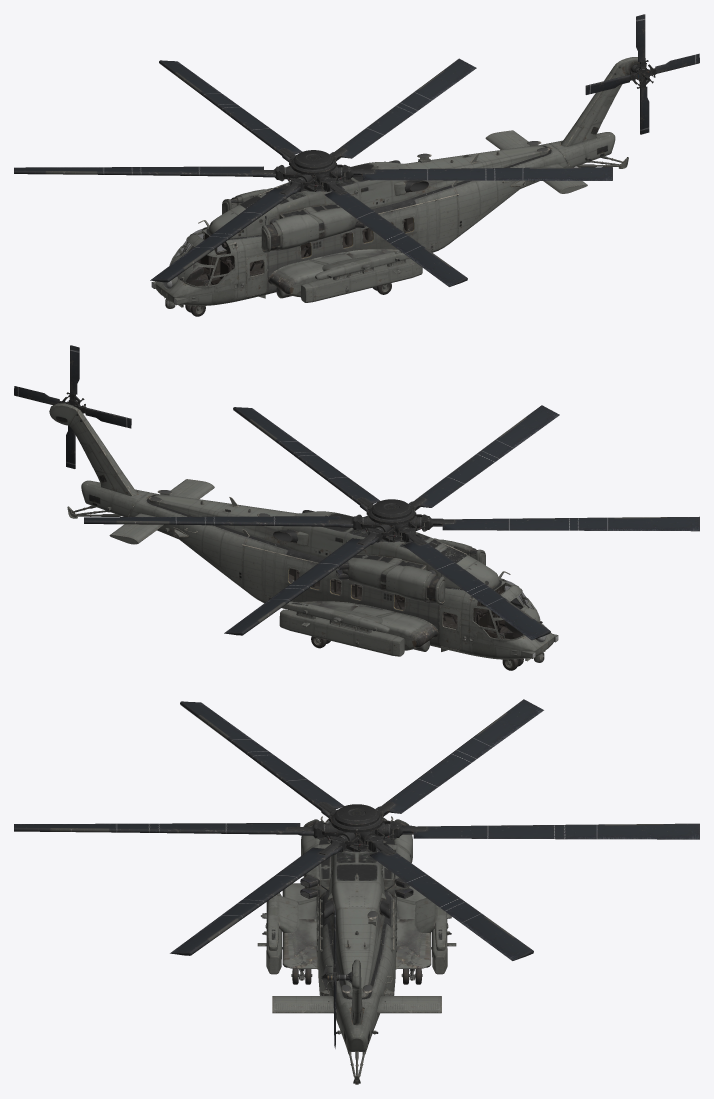
The picture shows the model from 3 angles, top to bottom: view 1: azimuth 30°, elevation 25°; view 2: azimuth 150°, elevation 25°; view 3: azimuth 270°, elevation 25°; orthographic projection. The views are drawn at different scales.
Parts seen in each view (by area): view 1: Object_8, Object_4, Object_3, Object_2, Object_5, Object_13, Object_9, Object_12, Object_7, Object_11; view 2: Object_8, Object_4, Object_3, Object_2, Object_5, Object_13, Object_9, Object_12, Object_7, Object_11; view 3: Object_8, Object_4, Object_2, Object_3, Object_12, Object_9, Object_13, Object_11, Object_5.
Part boxes in pixels (<box>): Object_8: <box>14,14,699,305</box>; Object_4: <box>222,188,422,302</box>; Object_3: <box>389,130,628,252</box>; Object_2: <box>208,145,548,238</box>; Object_5: <box>155,57,646,305</box>; Object_13: <box>185,197,421,316</box>; Object_9: <box>170,132,615,287</box>; Object_12: <box>252,60,656,194</box>; Object_7: <box>184,217,413,286</box>; Object_11: <box>161,141,591,307</box>; Object_8: <box>14,345,699,658</box>; Object_4: <box>279,538,477,656</box>; Object_3: <box>67,479,314,609</box>; Object_2: <box>149,494,499,588</box>; Object_5: <box>49,403,554,659</box>; Object_13: <box>280,547,523,670</box>; Object_9: <box>81,480,539,640</box>; Object_12: <box>59,392,454,544</box>; Object_7: <box>288,568,524,639</box>; Object_11: <box>106,490,548,661</box>; Object_8: <box>14,699,699,1048</box>; Object_4: <box>257,821,456,974</box>; Object_2: <box>319,837,395,997</box>; Object_3: <box>272,898,441,1084</box>; Object_12: <box>287,802,426,993</box>; Object_9: <box>316,817,397,1051</box>; Object_13: <box>292,891,421,984</box>; Object_11: <box>262,816,451,1034</box>; Object_5: <box>351,959,362,1025</box>.
Bounding box in the file's own units: 249 × 78.22 × 213.
10 materials, 9 textured.
